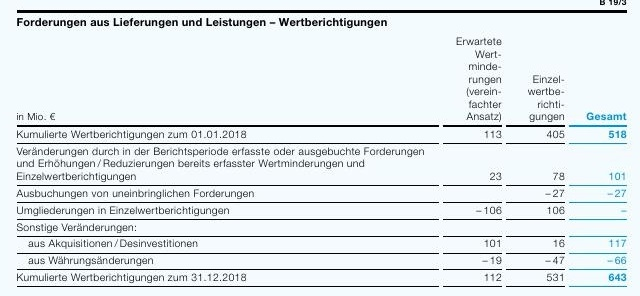table: (0, 0, 640, 296)
